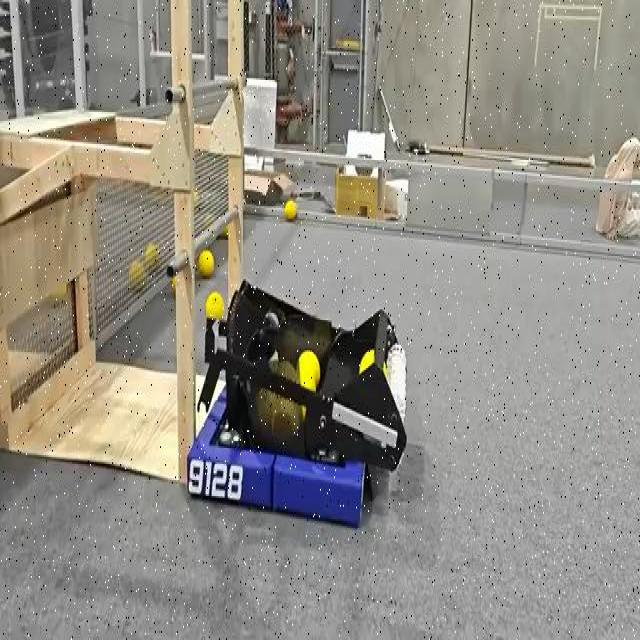Fuel: (297, 350, 321, 393), (205, 291, 224, 320), (128, 258, 144, 292), (128, 260, 144, 290), (359, 349, 376, 377), (205, 292, 223, 318), (198, 249, 214, 278), (197, 249, 214, 275), (359, 348, 374, 374), (145, 244, 159, 268), (284, 199, 297, 220), (284, 199, 296, 221)
